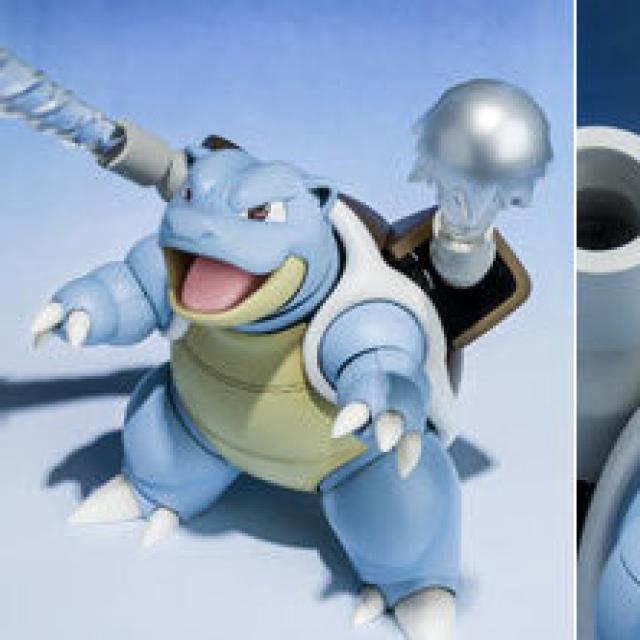Blastoise: (0, 49, 549, 615)
